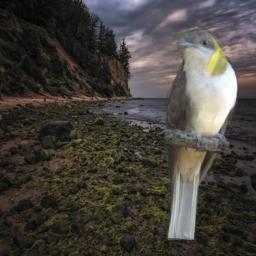Cuckoo: (161, 29, 238, 240)
